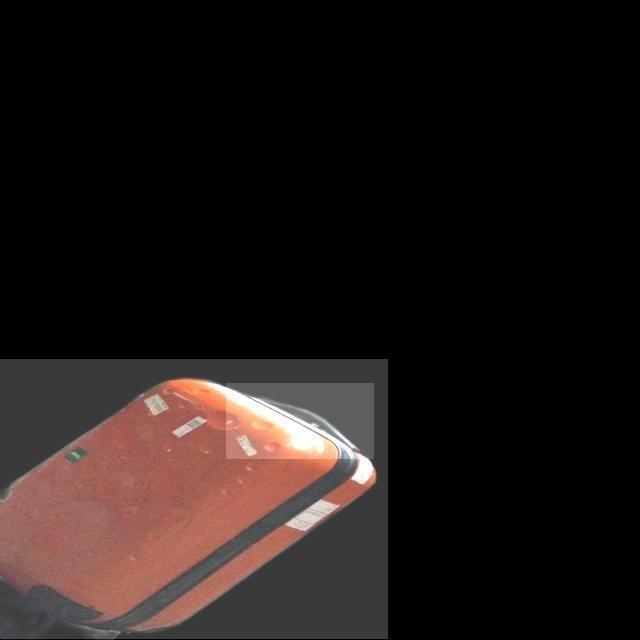Suitcase: (4, 376, 381, 640)
